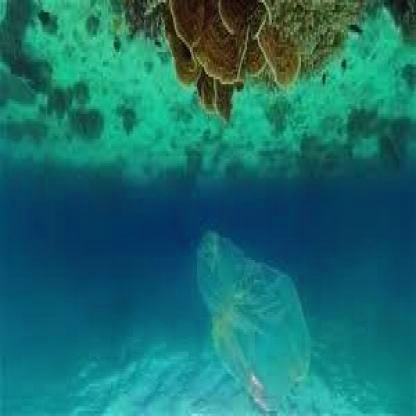pbag: (195, 231, 310, 414)
